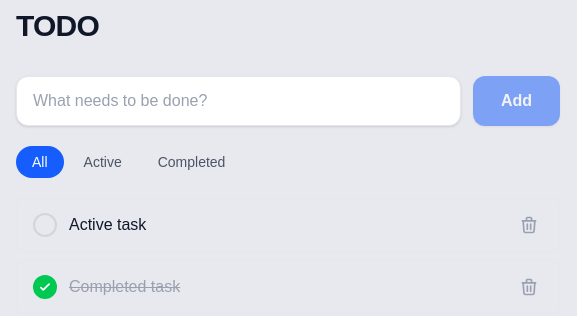
Test: Home page › filters to show only completed todos when Completed filter is clicked
What coordinates should you click on to do the following:
click the button "Completed"
I would click on:
 (192, 162)
Its box is [142,146,241,178].
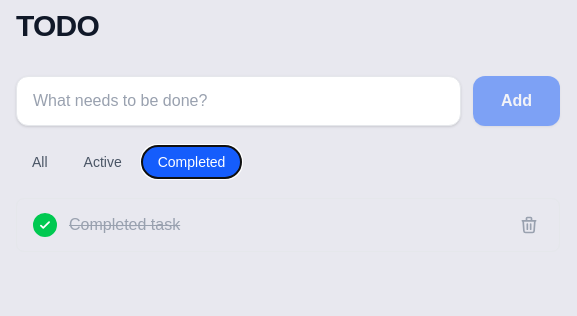
Expected: the text "Completed task" is shown, [69,216,180,233]
Expected: the text "Active task" is gone
